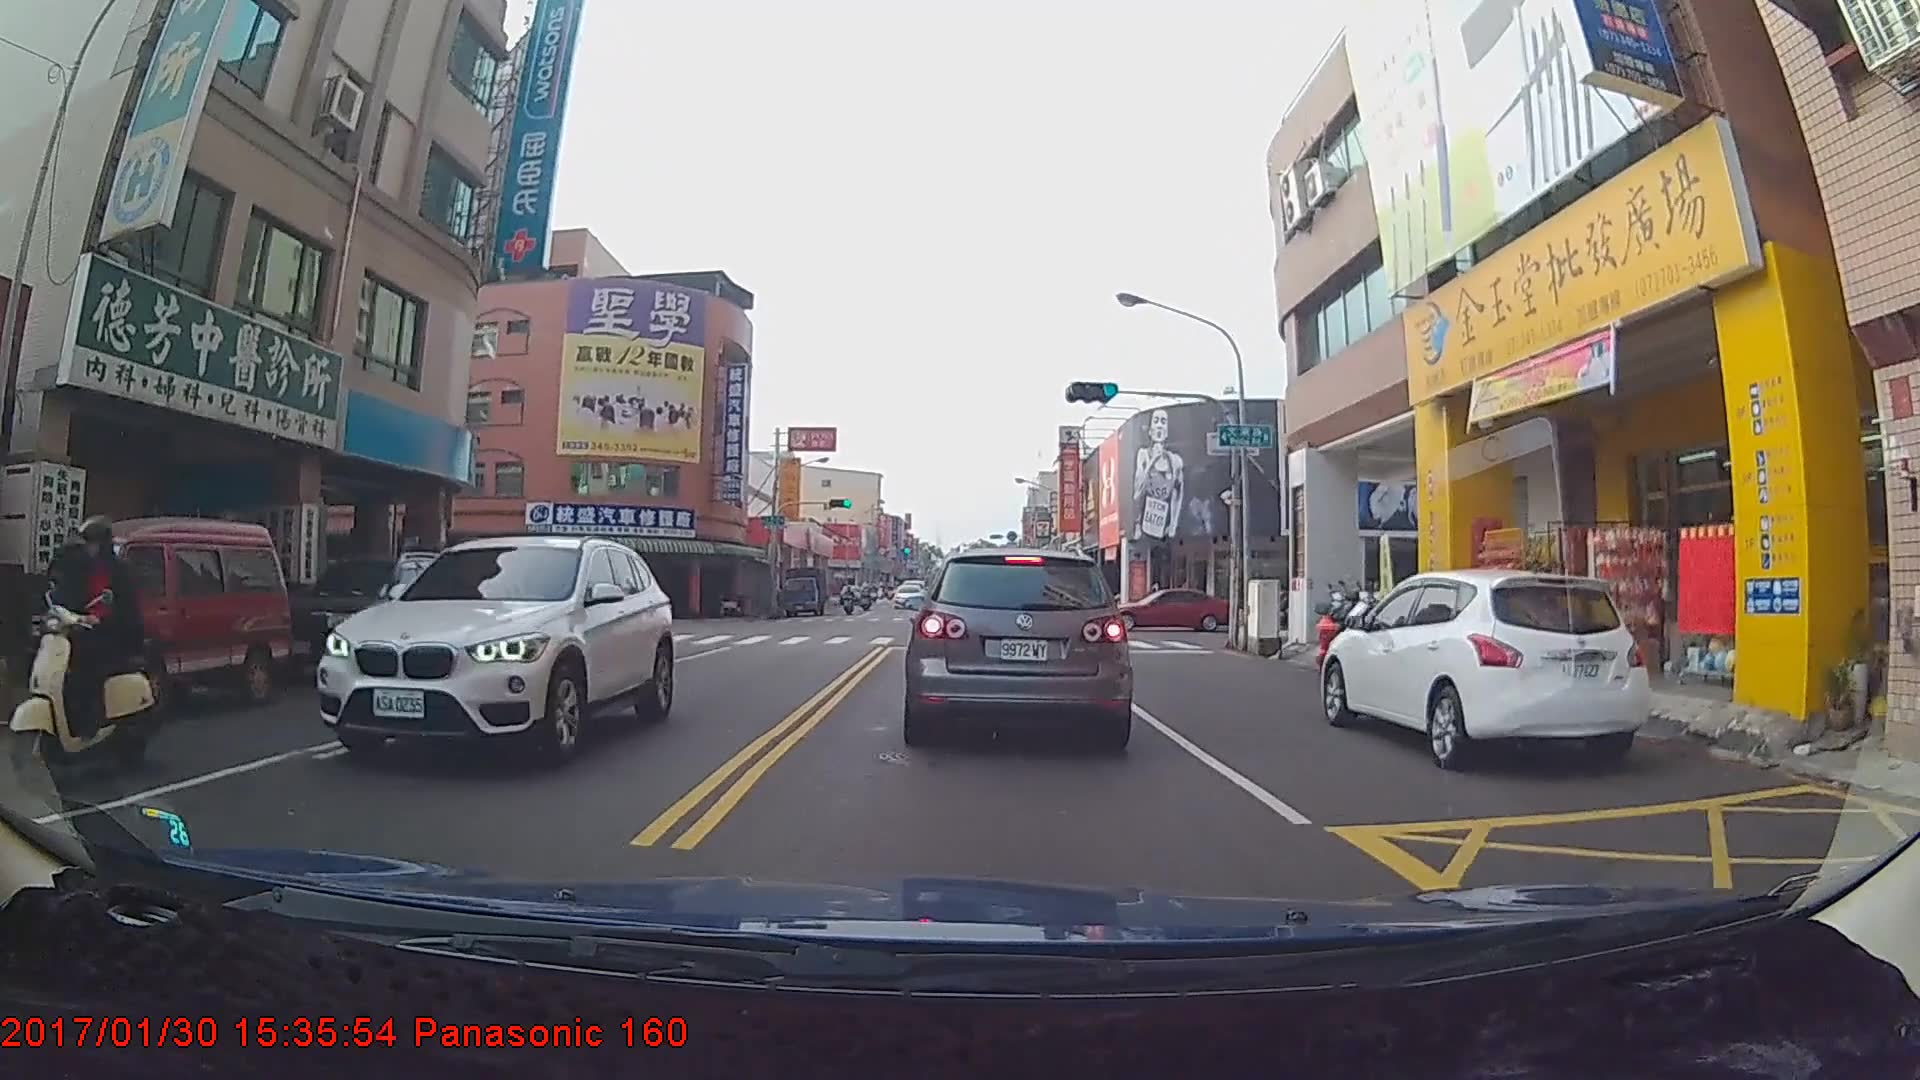rider: (1, 536, 166, 778), (838, 577, 860, 612), (847, 576, 867, 605)
vehicle: (313, 532, 676, 761), (1321, 566, 1650, 769), (59, 517, 293, 713), (903, 544, 1128, 747), (273, 550, 460, 687), (1104, 584, 1230, 633), (777, 563, 829, 614), (893, 580, 926, 607)
